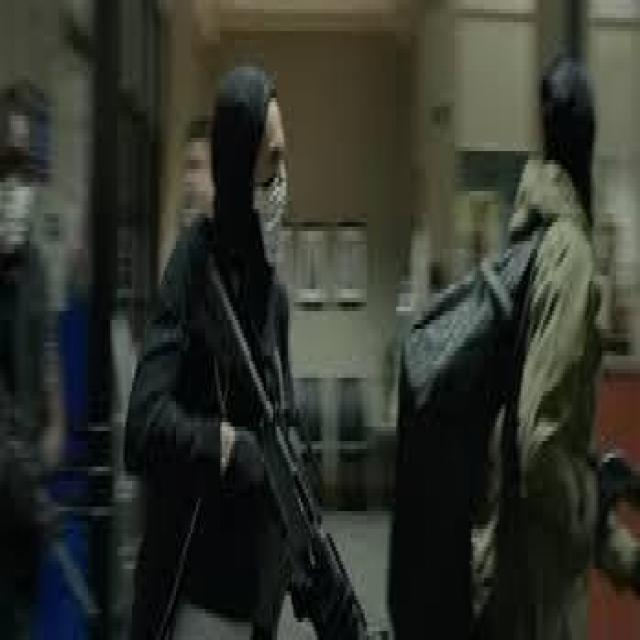gun: (182, 248, 371, 636)
